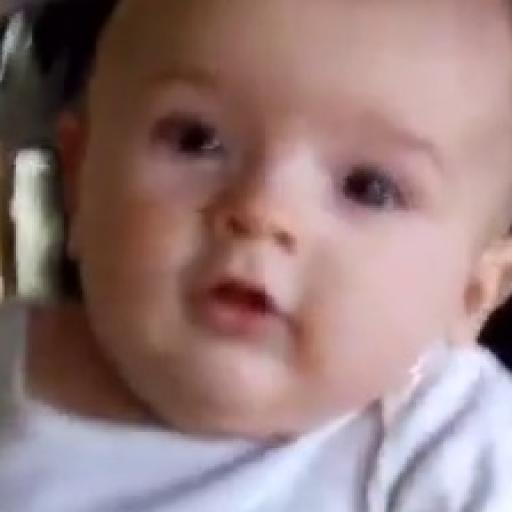Autism: (70, 9, 512, 442)
